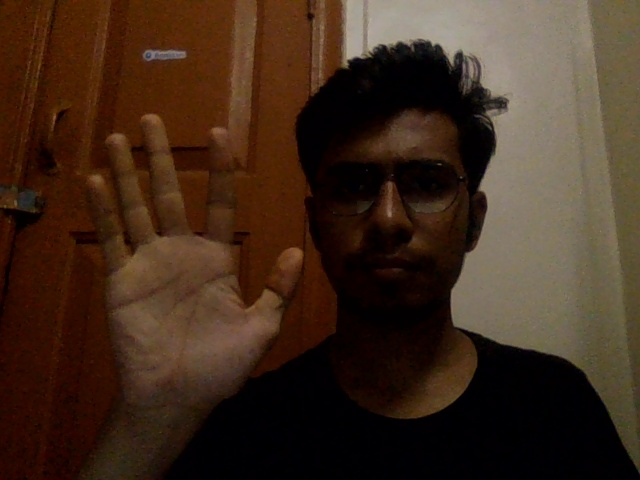Hello: (56, 100, 308, 420)
